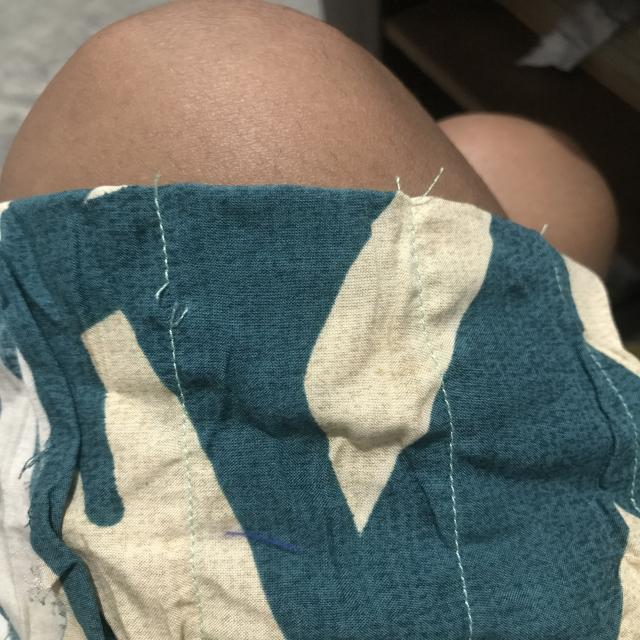broken: (136, 262, 208, 341)
good: (438, 475, 478, 559)
